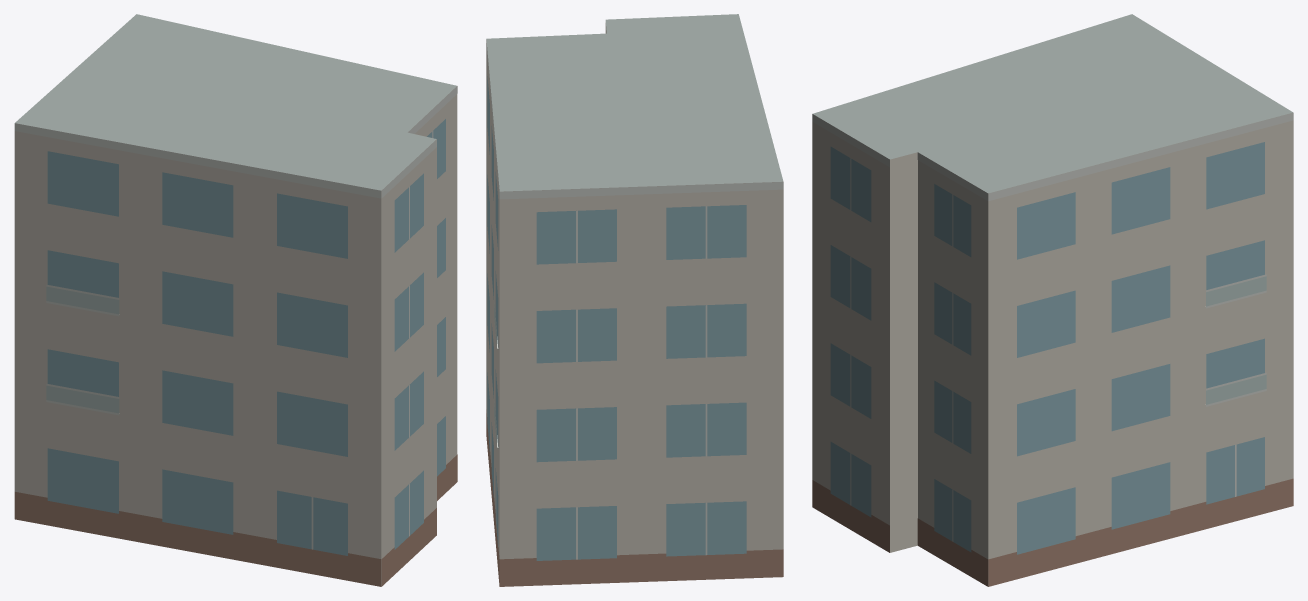
Rendered from survey-upis-32786518.glb.
The picture shows the model from 3 angles, left to right: view 1: azimuth 30°, elevation 25°; view 2: azimuth 150°, elevation 25°; view 3: azimuth 270°, elevation 25°; orthographic projection.
Visible parts, largest first — view 1: survey-upis-32786518.tmp; view 2: survey-upis-32786518.tmp; view 3: survey-upis-32786518.tmp.
Boxes of the visible parts, box(x1,y1,x2,y2) form: survey-upis-32786518.tmp: box(14, 14, 457, 586); survey-upis-32786518.tmp: box(486, 14, 783, 586); survey-upis-32786518.tmp: box(812, 14, 1293, 586).
Size of the model in its own units: 11.94 by 12.2 by 13.53.
